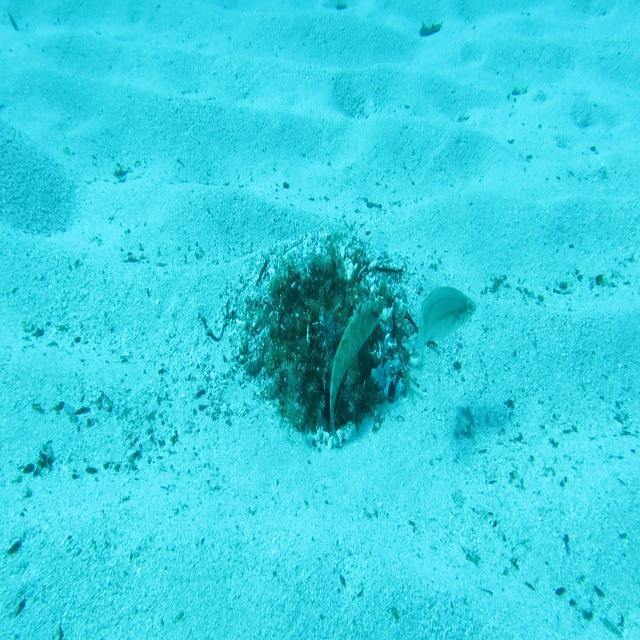LF: (327, 293, 386, 451)
core_nest: (298, 280, 346, 322)
female: (408, 284, 478, 386)
nest: (222, 212, 443, 464)
vegetation: (418, 22, 442, 40)
